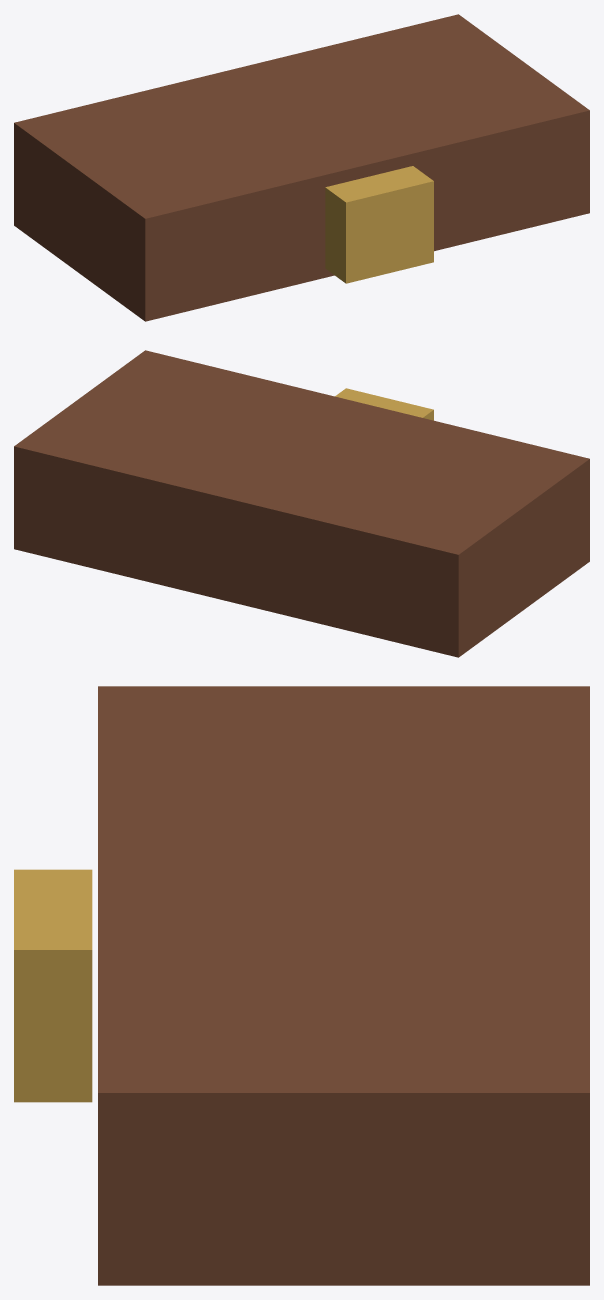
Rendered from wk_shell_waist_belt_v01.glb.
3 views of the same model, one above another, from view 1: azimuth 30°, elevation 25°; view 2: azimuth 150°, elevation 25°; view 3: azimuth 270°, elevation 25° (orthographic). The views are drawn at different scales.
Parts seen in each view (by area): view 1: GEO_Belt, GEO_Buckle; view 2: GEO_Belt, GEO_Buckle; view 3: GEO_Belt, GEO_Buckle.
Part boxes in pixels (<box>): GEO_Belt: <box>14,14,589,321</box>; GEO_Buckle: <box>325,166,433,283</box>; GEO_Belt: <box>14,350,589,657</box>; GEO_Buckle: <box>335,388,433,420</box>; GEO_Belt: <box>98,686,589,1285</box>; GEO_Buckle: <box>14,869,92,1102</box>.
Bounding box in the file's own units: 0.43 × 0.095 × 0.2575.
